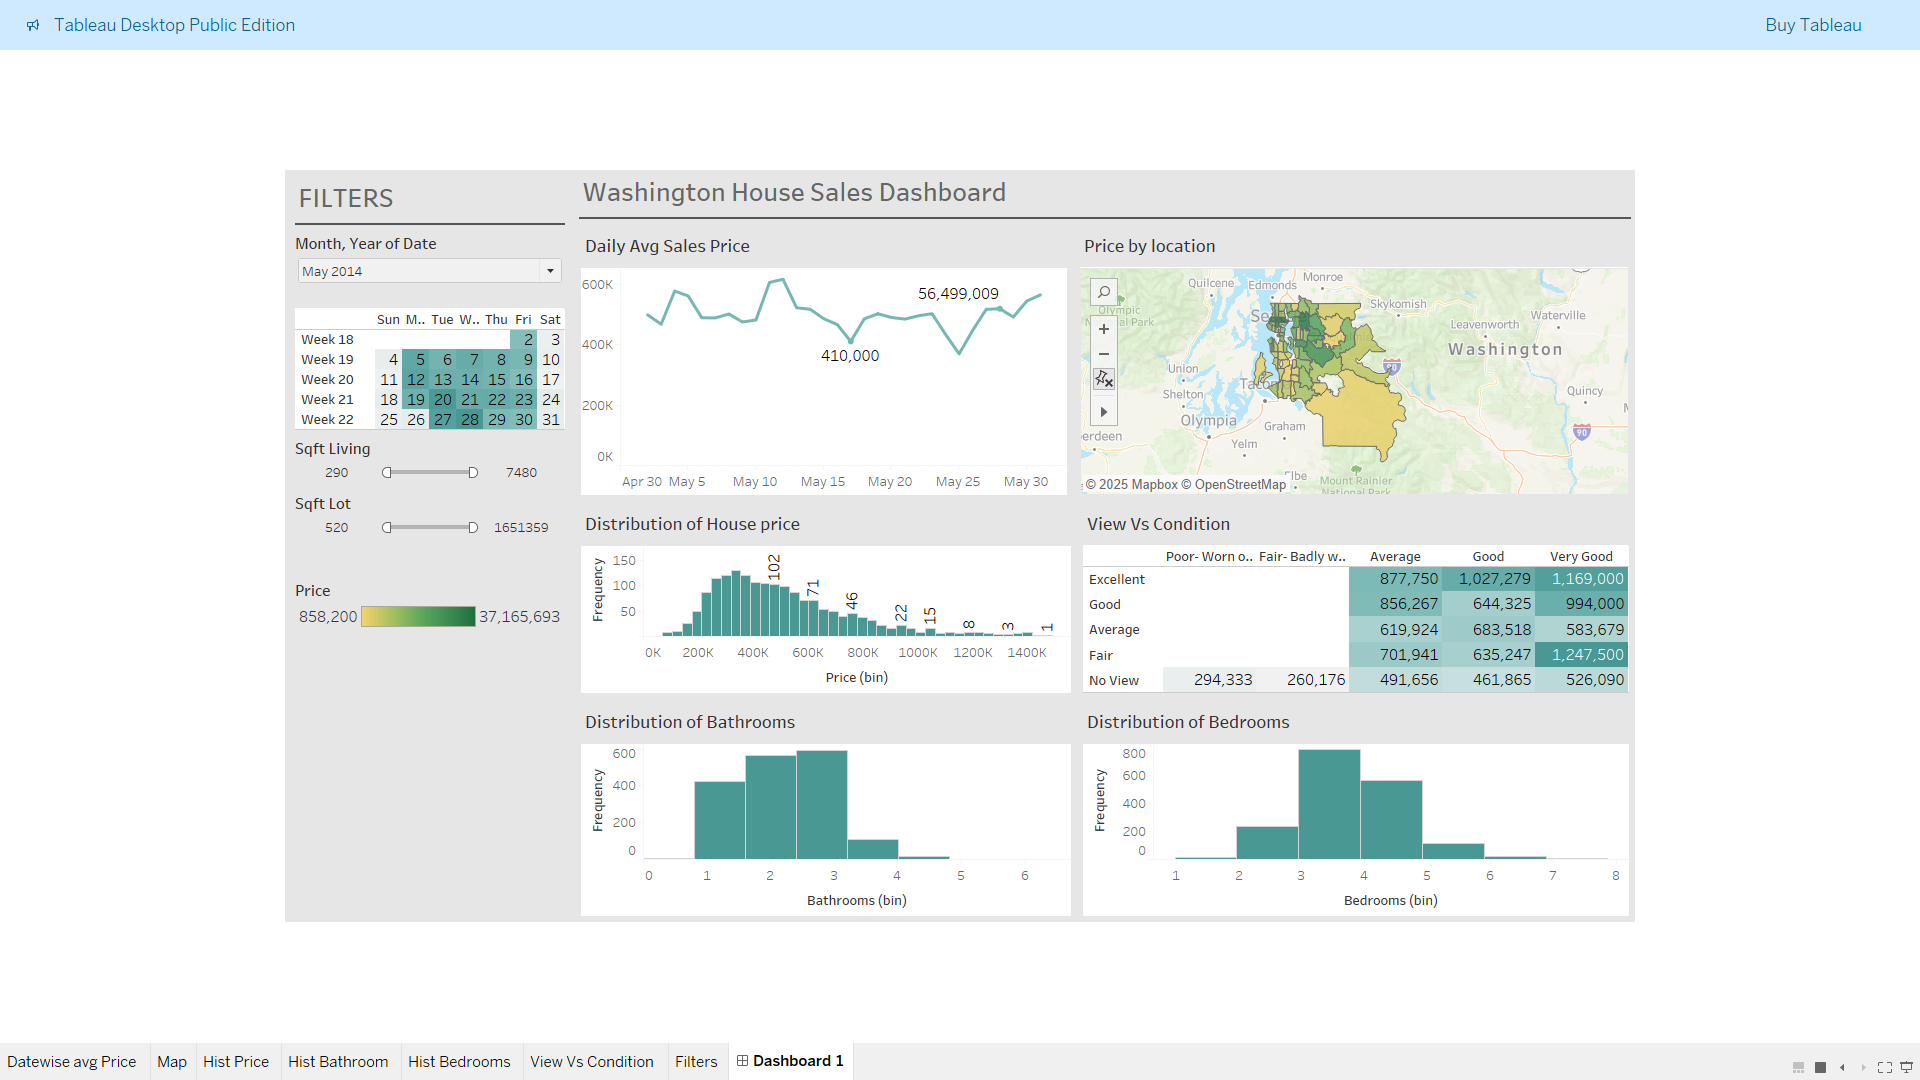

This screenshot's page, from the dashboard's own definition file:
{"tool":"tableau","page":{"name":"Dashboard 1","canvas":[1366,768],"ordinal":0},"visuals":[{"type":"text","box":[298,8,1060,43]},{"type":"text","box":[14,14,278,43]},{"type":"blank","box":[298,51,1060,10]},{"type":"blank","box":[14,57,278,10]},{"type":"worksheet","title":"Datewise avg Price","mark":"Automatic","rows":["price"],"cols":["date"],"box":[298,61,498.5,278]},{"type":"worksheet","title":"Map","mark":"Automatic","box":[796.5,61,561.5,278]},{"type":"filter","title":"Filters","param":"[federated.0yw5yzo0kw3bax1emp1p81jr714r].[my:date:ok]","box":[14,67,278,61]},{"type":"worksheet","title":"Filters","mark":"Square","rows":["date"],"cols":["date"],"box":[14,128,278,144]},{"type":"filter","title":"Filters","param":"[federated.0yw5yzo0kw3bax1emp1p81jr714r].[none:sqft_living:qk]","box":[14,272,278,55]},{"type":"filter","title":"Filters","param":"[federated.0yw5yzo0kw3bax1emp1p81jr714r].[none:sqft_lot:qk]","box":[14,327,278,55]},{"type":"worksheet","title":"Hist Price","mark":"Automatic","rows":["price"],"cols":["Price (bin)"],"box":[298,339,502,198]},{"type":"worksheet","title":"View Vs Condition","mark":"Square","rows":["view"],"cols":["condition"],"box":[800,339,558,198]},{"type":"blank","box":[14,382,278,32]},{"type":"legend","title":"Map","param":"[federated.0yw5yzo0kw3bax1emp1p81jr714r].[sum:price:qk]","box":[14,414,278,73]},{"type":"worksheet","title":"Hist Bathroom","mark":"Automatic","rows":["bathrooms"],"cols":["Bathrooms (bin)"],"box":[298,537,502,223]},{"type":"worksheet","title":"Hist Bedrooms","mark":"Automatic","rows":["bedrooms"],"cols":["Bedrooms (bin)"],"box":[800,537,558,223]}]}

Visuals, with their boxes on the page's 1366x768 design canvas (x1, y1, x2, y2). These are canvas units, not pixel positions in the 1920x1080 screenshot, which may show the page scaled, cropped or inside an application window:
text: l=298, t=8, r=1358, b=51
text: l=14, t=14, r=292, b=57
blank: l=298, t=51, r=1358, b=61
blank: l=14, t=57, r=292, b=67
"Datewise avg Price" worksheet: l=298, t=61, r=796, b=339
"Map" worksheet: l=796, t=61, r=1358, b=339
"Filters" filter: l=14, t=67, r=292, b=128
"Filters" worksheet (Square marks): l=14, t=128, r=292, b=272
"Filters" filter: l=14, t=272, r=292, b=327
"Filters" filter: l=14, t=327, r=292, b=382
"Hist Price" worksheet: l=298, t=339, r=800, b=537
"View Vs Condition" worksheet (Square marks): l=800, t=339, r=1358, b=537
blank: l=14, t=382, r=292, b=414
"Map" legend: l=14, t=414, r=292, b=487
"Hist Bathroom" worksheet: l=298, t=537, r=800, b=760
"Hist Bedrooms" worksheet: l=800, t=537, r=1358, b=760
